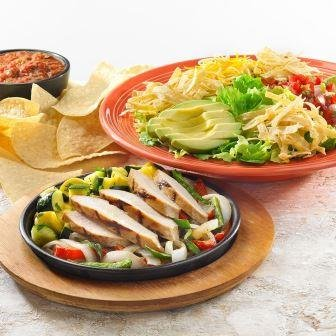sushi: (98, 51, 336, 185)
